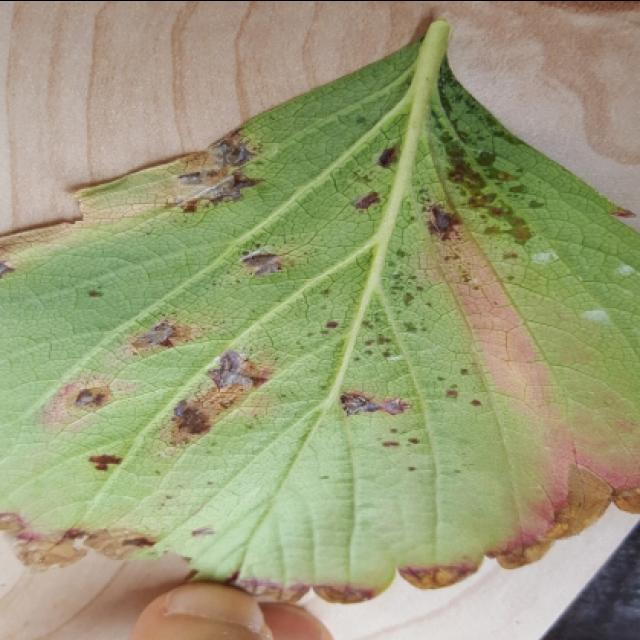Angular Leafspot: (0, 34, 638, 605)
